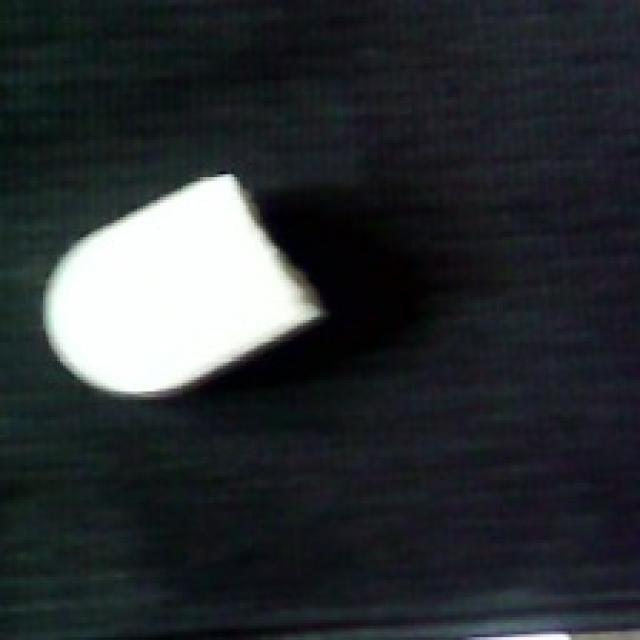defected: (34, 166, 334, 406)
